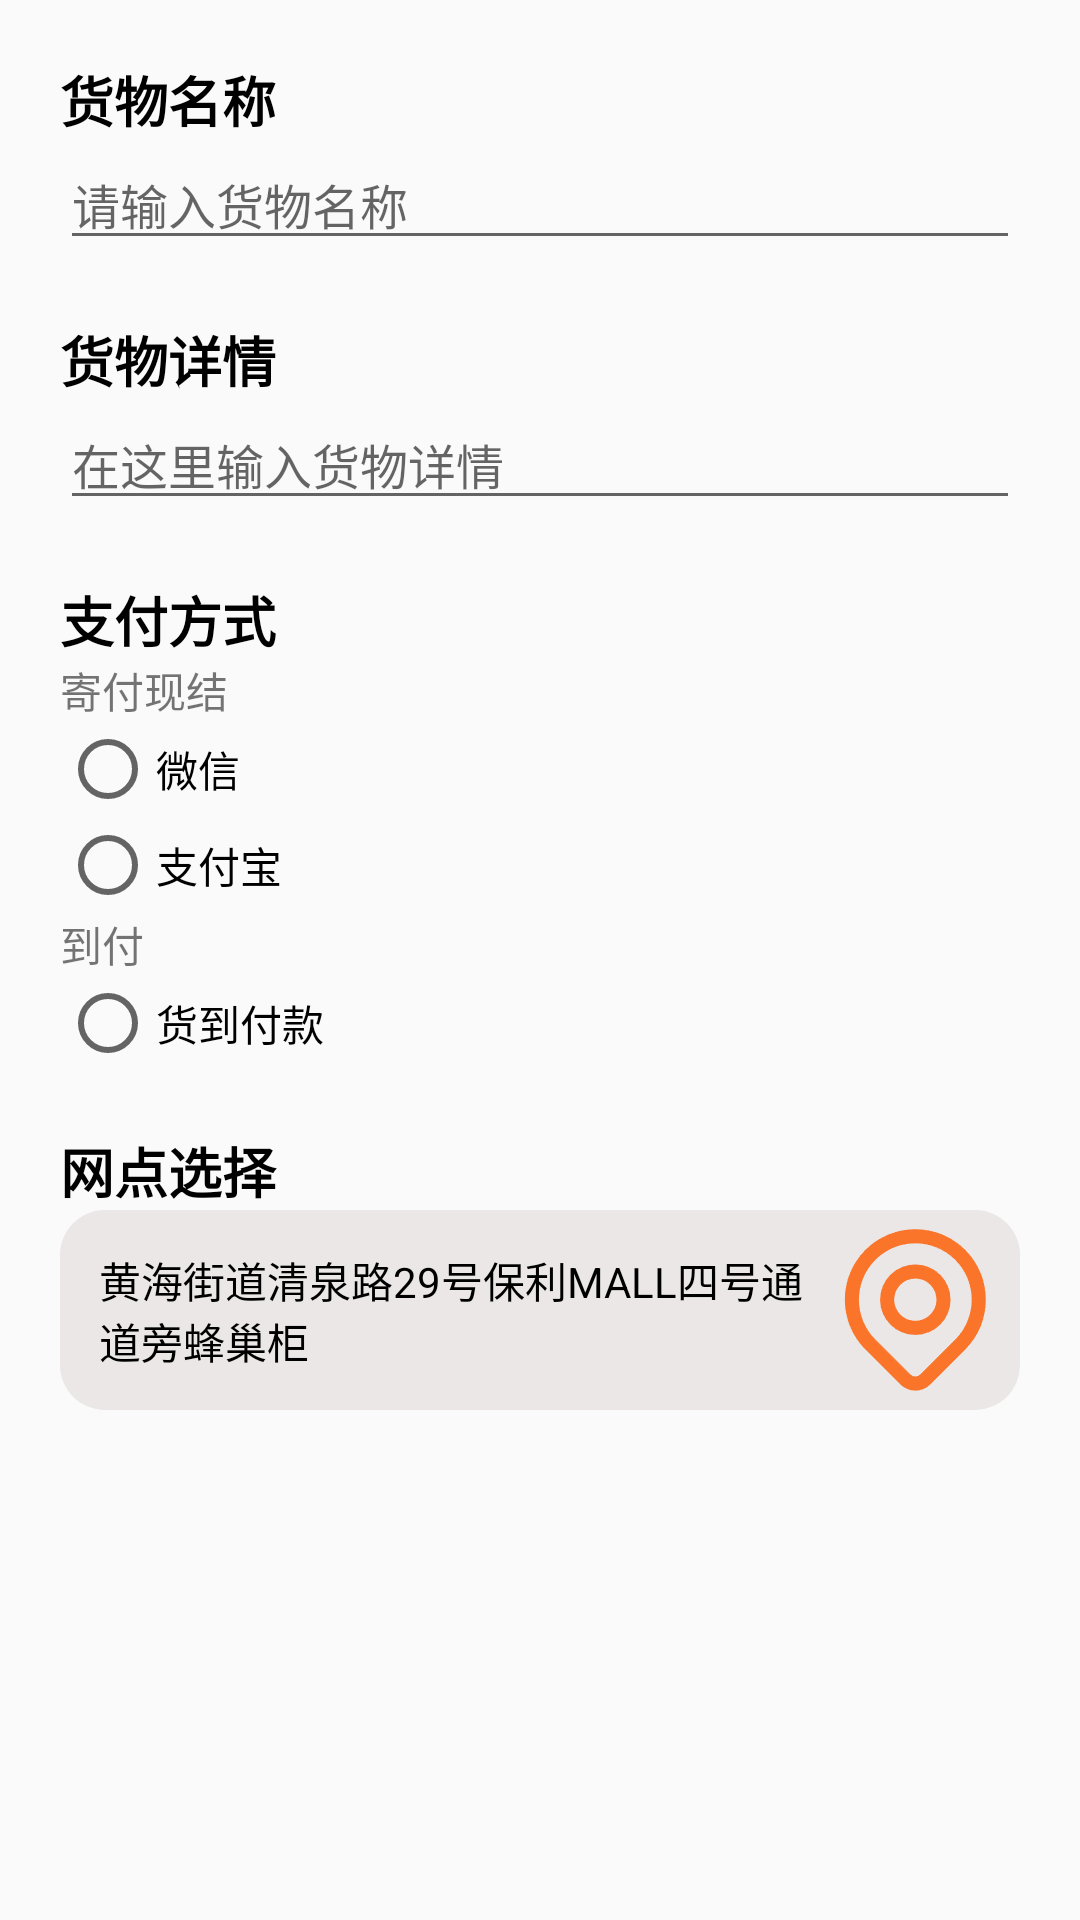

Where to tap for icons on this 1080 x 1920 app screen, as point (x, y):
branch: point (914, 1310)
